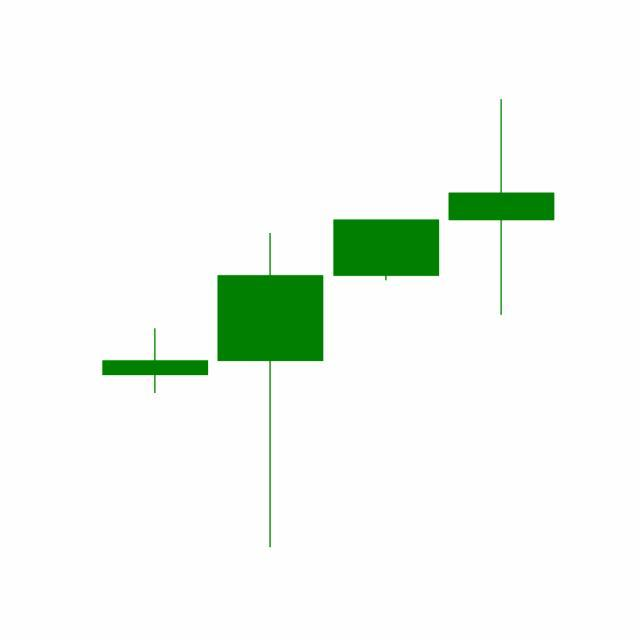Marubozu: (329, 219, 445, 282)
